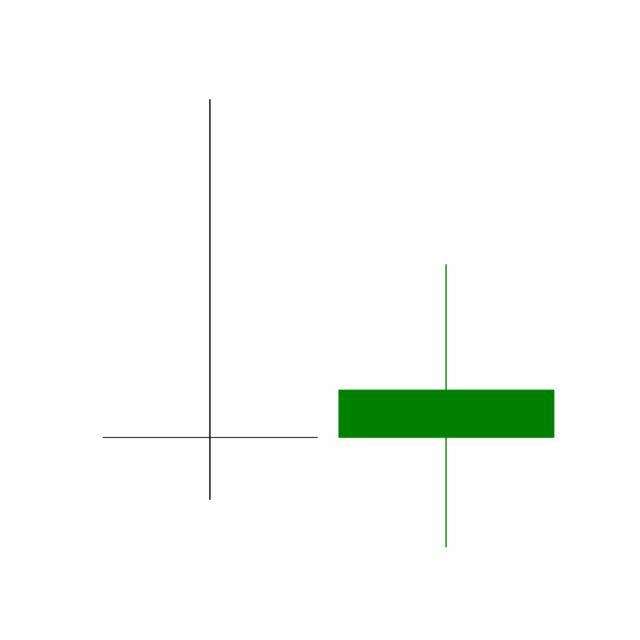Spinning Top: (328, 261, 566, 551)
